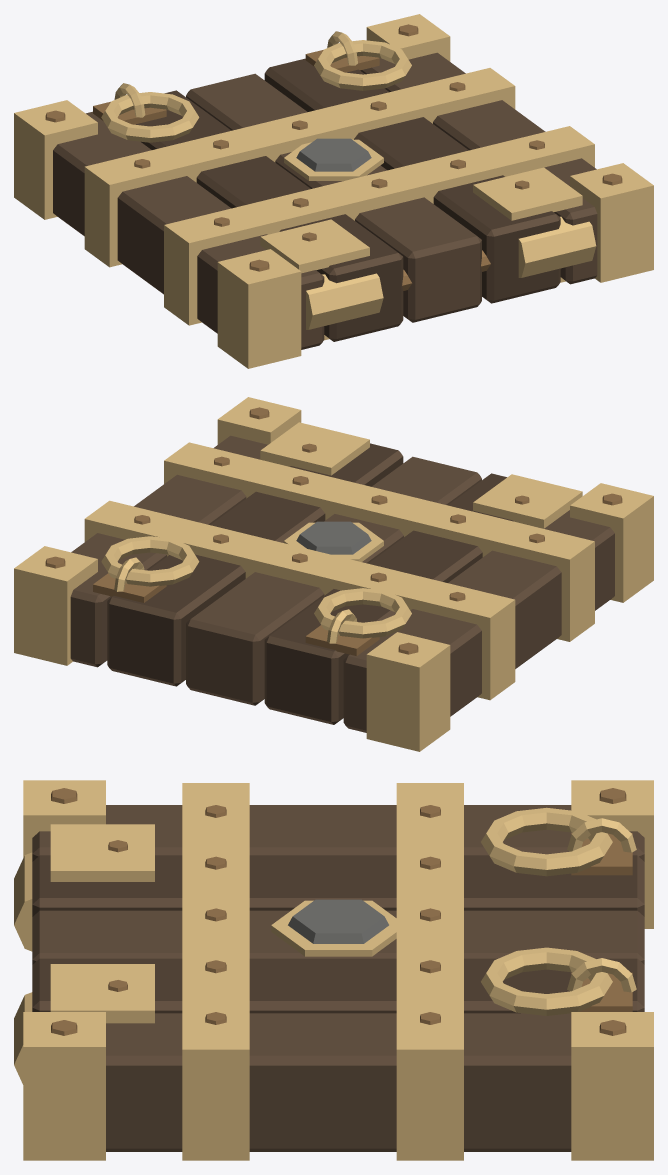
Rendered from bridge.glb.
3 views of the same model, one above another, from view 1: azimuth 30°, elevation 25°; view 2: azimuth 150°, elevation 25°; view 3: azimuth 270°, elevation 25° (orthographic). The views are drawn at different scales.
Visible parts, largest first — view 1: deck_planks, strap_near, strap_far, cap_nl, hinge_r, cap_nr, hinge_l, cap_fl, rune_boss, chain_ring_l, chain_ring_r, cap_fr (+2 smaller); view 2: deck_planks, strap_near, strap_far, cap_fl, cap_fr, cap_nl, hinge_l, hinge_r, chain_ring_r, chain_ring_l, cap_nr, rune_boss (+2 smaller); view 3: deck_planks, strap_far, strap_near, cap_fr, cap_nr, hinge_l, hinge_r, rune_boss, chain_ring_l, chain_ring_r, cap_fl, cap_nl (+2 smaller).
Boxes of the visible parts, x1,y1,x2,y2 form: deck_planks: (53,52,597,349); strap_near: (164,126,594,325); strap_far: (84,68,515,267); cap_nl: (217,249,301,368); hinge_r: (473,167,596,282); cap_nr: (570,163,653,282); hinge_l: (260,219,383,340); cap_fl: (14,100,97,219); rune_boss: (284,138,383,180); chain_ring_l: (101,92,199,142); chain_ring_r: (314,40,411,90); cap_fr: (366,14,450,61); deck_planks: (70,435,614,732); strap_near: (164,442,594,641); strap_far: (84,500,515,700); cap_fl: (366,632,450,751); cap_fr: (14,546,97,665); cap_nl: (570,483,653,602); hinge_l: (473,474,582,528); hinge_r: (260,422,369,475); chain_ring_r: (101,536,199,586); chain_ring_l: (314,588,411,638); cap_nr: (217,397,301,444); rune_boss: (284,521,383,561); deck_planks: (32,805,644,1151); strap_far: (396,783,463,1160); strap_near: (182,783,249,1160); cap_fr: (571,1012,653,1160); cap_nr: (23,1012,105,1160); hinge_l: (14,824,154,951); hinge_r: (14,964,154,1084); rune_boss: (271,899,396,956); chain_ring_l: (481,807,612,876); chain_ring_r: (481,947,612,1015); cap_fl: (571,780,653,928); cap_nl: (23,780,105,857).
Size of what is drawn, in the model's own units: 1.03 by 0.251 by 1.04.
